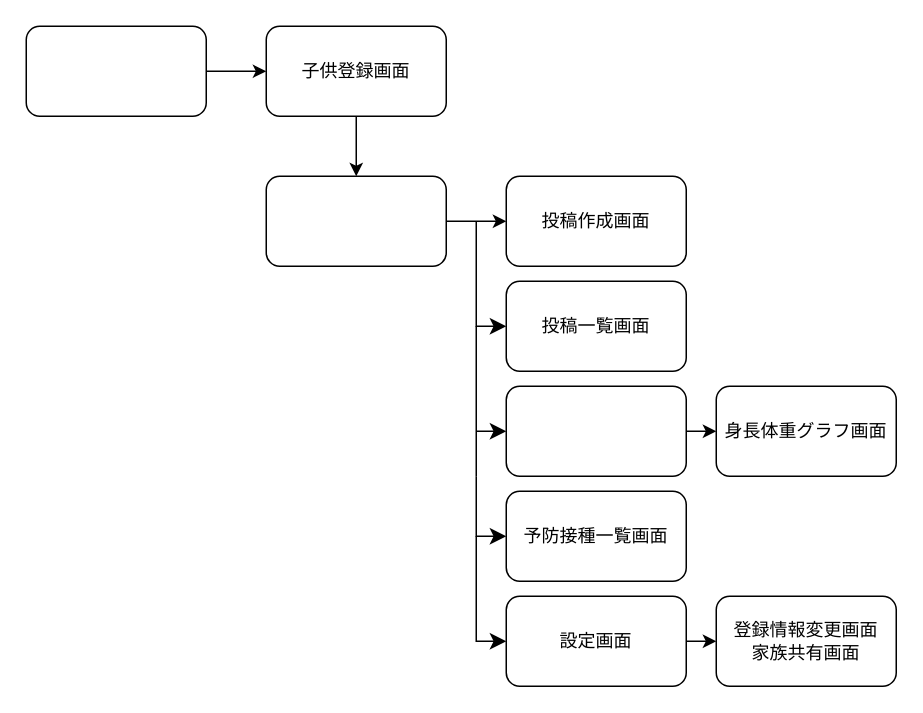
Some shapes in this 923 by 713 pixel diagram are drawn without their labels. Each missing label, with the centre of its shape:
子供選択画面: point (355, 220)
新規登録画面 ログイン画面: point (115, 70)
身長体重一覧画面: point (595, 430)
